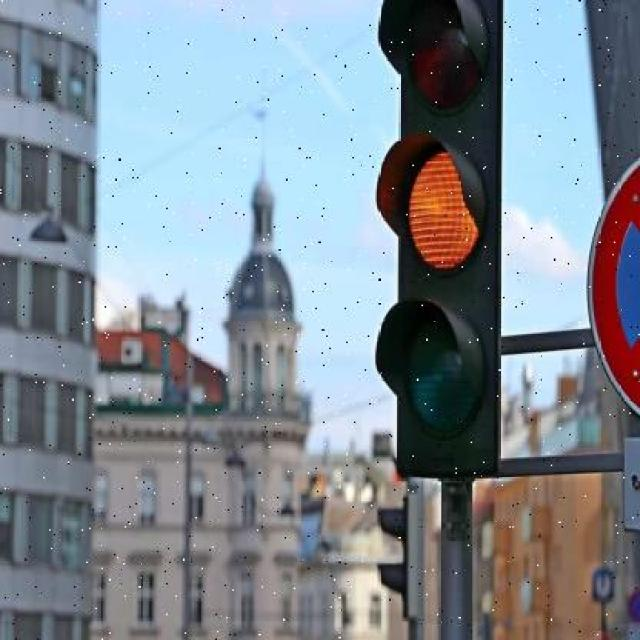yellow-light: (354, 2, 511, 484)
